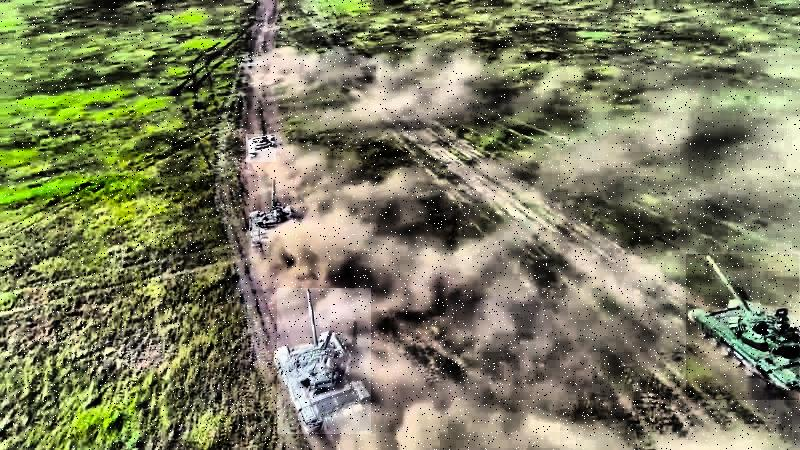military-vehicle: (686, 254, 800, 400), (277, 289, 371, 435), (250, 179, 294, 259), (246, 134, 276, 162)
